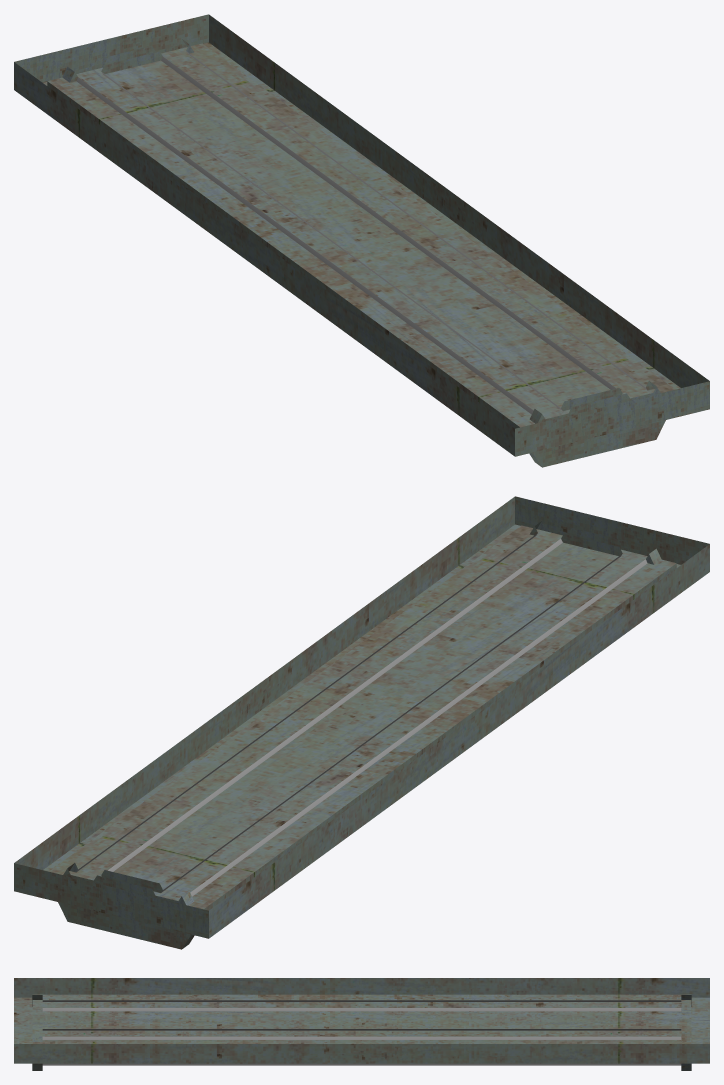
Rendered from _Lamp_1.FBX.
3 views of the same model, one above another, from view 1: azimuth 30°, elevation 25°; view 2: azimuth 150°, elevation 25°; view 3: azimuth 270°, elevation 25° (orthographic). The views are drawn at different scales.
Visible parts, largest first — view 1: _Lamp_1; view 2: _Lamp_1; view 3: _Lamp_1.
Part boxes in pixels (x1=…): _Lamp_1: x1=14, y1=14, x2=709, y2=467; _Lamp_1: x1=14, y1=496, x2=709, y2=949; _Lamp_1: x1=14, y1=978, x2=709, y2=1070.
Size of the model in its own units: 29.65 by 8.5 by 132.
Materials: 2 (1 with a texture image).
